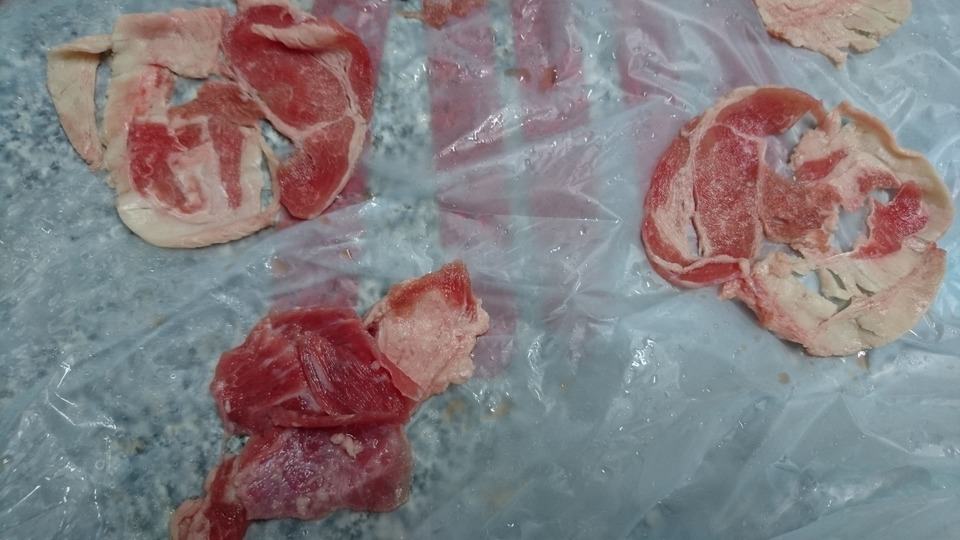restructured meat: (639, 72, 960, 369), (34, 2, 387, 249), (185, 258, 480, 540)
